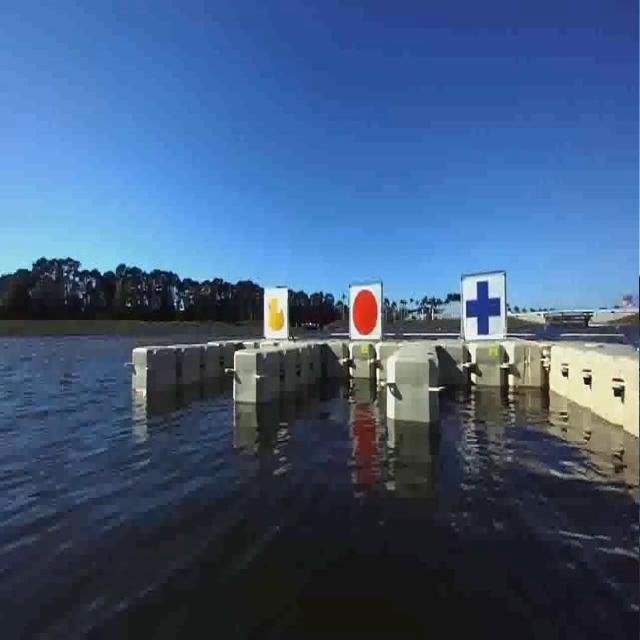blue-cross: (461, 270, 504, 335)
red-dot: (349, 284, 382, 341)
yellow-duck: (263, 288, 289, 340)
